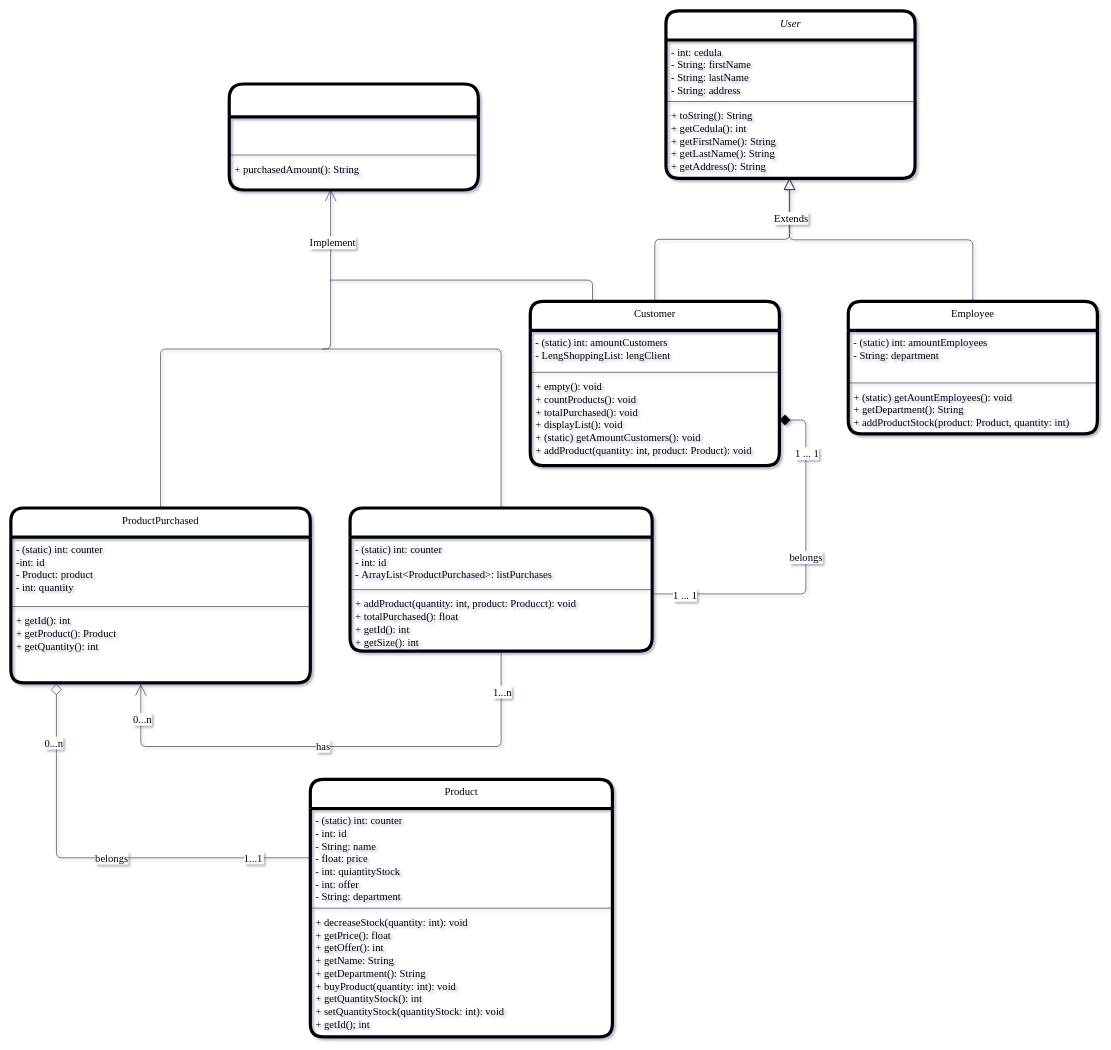
Some shapes in this 1111 by 1050 pixel diagram are drawn without their labels. Each missing label, with the box of its shape:
<< Interface >> Billing: (227, 82, 480, 191)
LengShoppingList: (348, 506, 653, 652)
